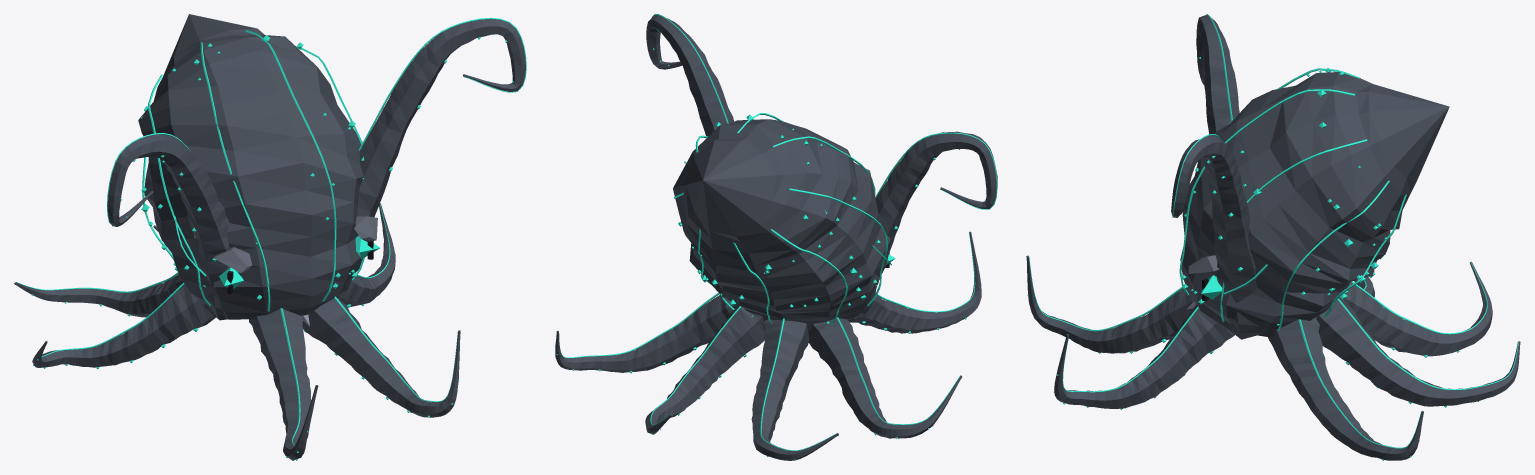
The model's file is Kraken.obj.
The picture shows the model from 3 angles, left to right: view 1: azimuth 30°, elevation 25°; view 2: azimuth 150°, elevation 25°; view 3: azimuth 270°, elevation 25°; orthographic projection. The views are drawn at different scales.
Parts seen in each view (by area): view 1: Kraken_Cuerpo, Kraken_Brillo, Kraken_Cuerpo2, Kraken_Ojos; view 2: Kraken_Cuerpo, Kraken_Brillo; view 3: Kraken_Cuerpo, Kraken_Brillo.
Boxes of the visible parts, <box> form: Kraken_Cuerpo: <box>14,14,525,460</box>; Kraken_Brillo: <box>16,17,526,460</box>; Kraken_Cuerpo2: <box>213,216,377,273</box>; Kraken_Ojos: <box>219,236,379,289</box>; Kraken_Cuerpo: <box>555,15,997,460</box>; Kraken_Brillo: <box>556,14,997,460</box>; Kraken_Cuerpo: <box>1026,15,1520,460</box>; Kraken_Brillo: <box>1027,14,1518,460</box>.
Size of the model in its own units: 4.22 by 3.21 by 4.41.
